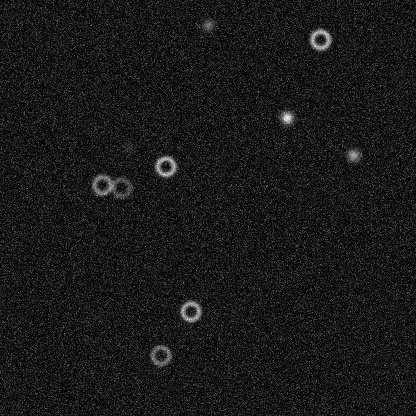Ring: (153, 154, 177, 178), (148, 343, 172, 367), (108, 175, 132, 199), (178, 299, 202, 323), (90, 172, 114, 196), (308, 27, 332, 51)
Spot: (278, 109, 294, 125), (345, 147, 361, 163), (119, 139, 135, 155), (200, 16, 216, 32)
